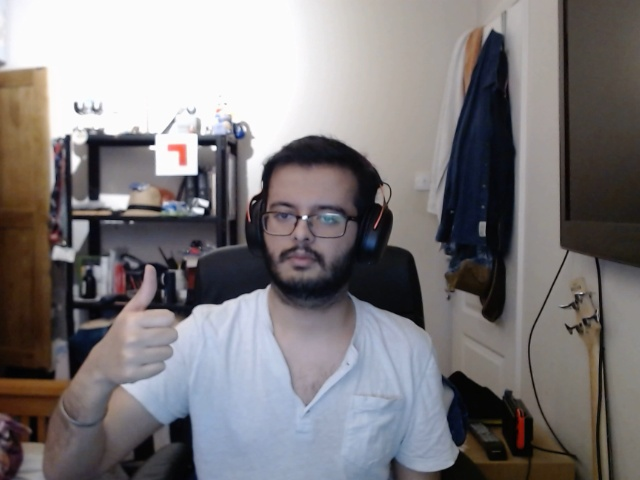Thumbs up: (102, 258, 182, 397)
